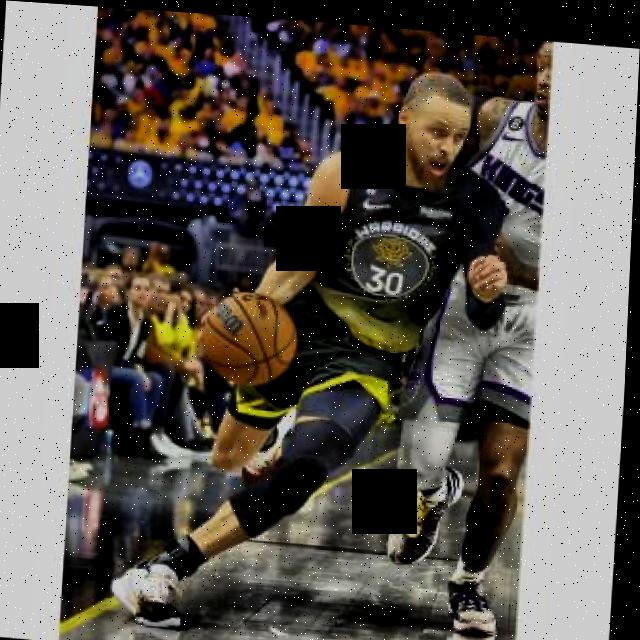shoe: (391, 454, 467, 561), (109, 551, 189, 628), (449, 561, 504, 629)
